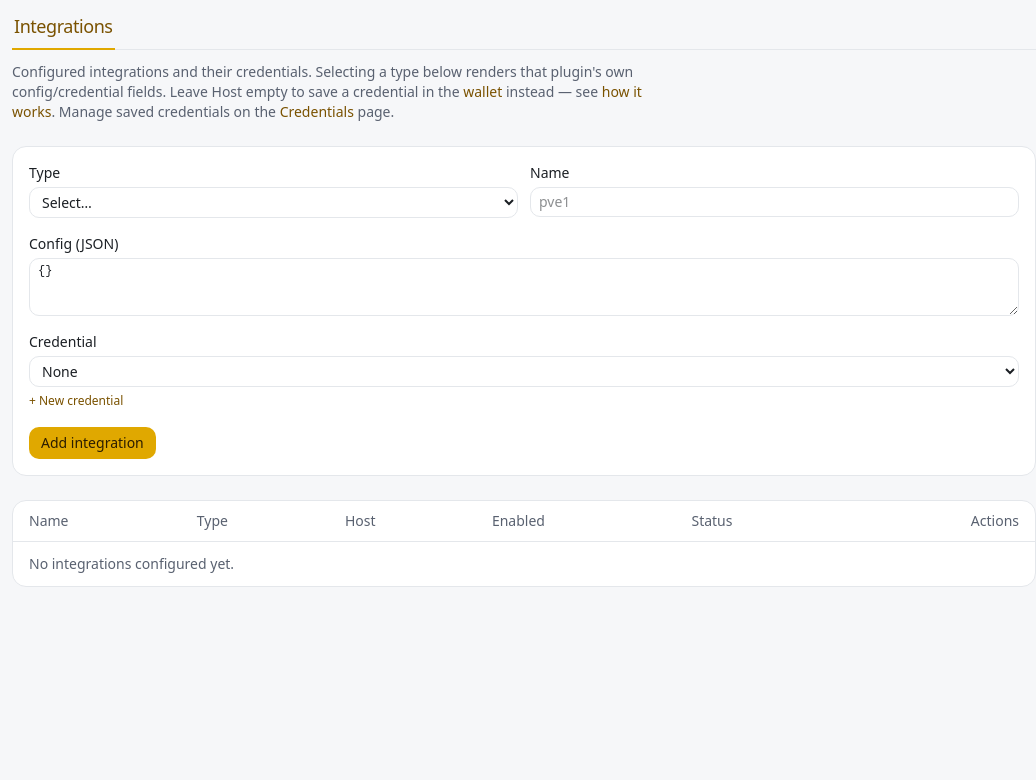
Test: IntegrationsPage › blocks submission when a required typed field is left empty
This screenshot has width=1036, height=780.
Expected: the text "No integrations configured yet." is shown, [13, 542, 1035, 586]
Select "Demo Plugin" in the dropdown "Select…" at (274, 202), box [29, 187, 518, 218]
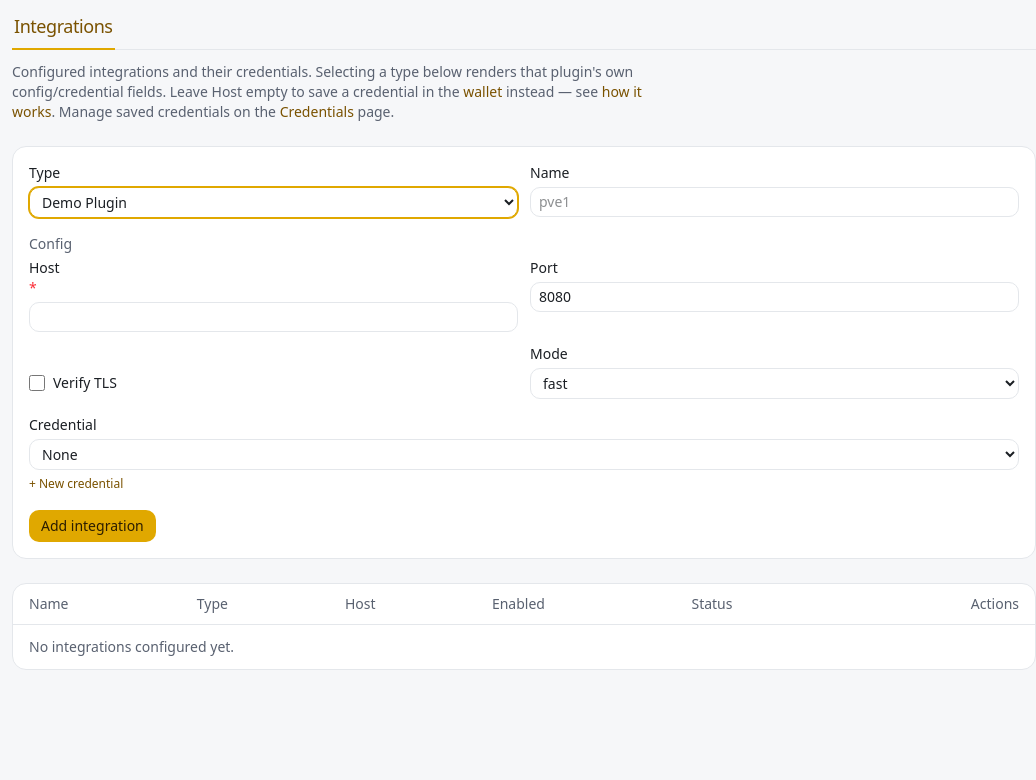
Type "demo-instance" into the field with placeholder "pve1".
click(774, 202); type("demo-instance")  # box [530, 187, 1019, 217]
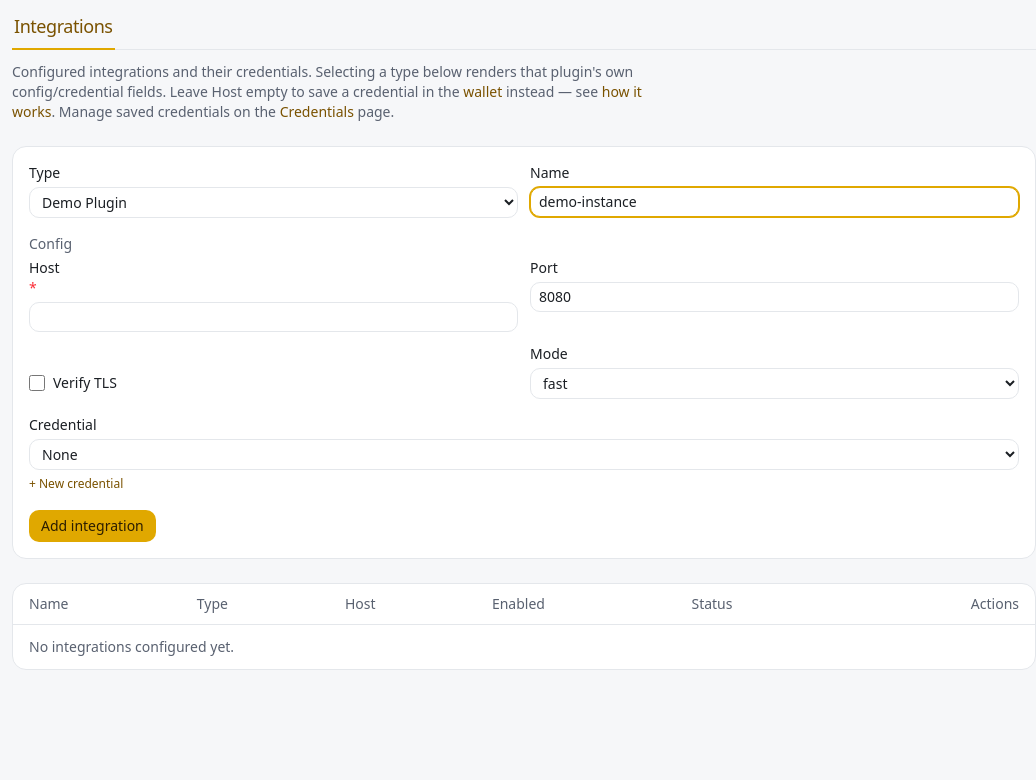
Click the button "Add integration".
click(92, 526)  # box [29, 510, 156, 542]
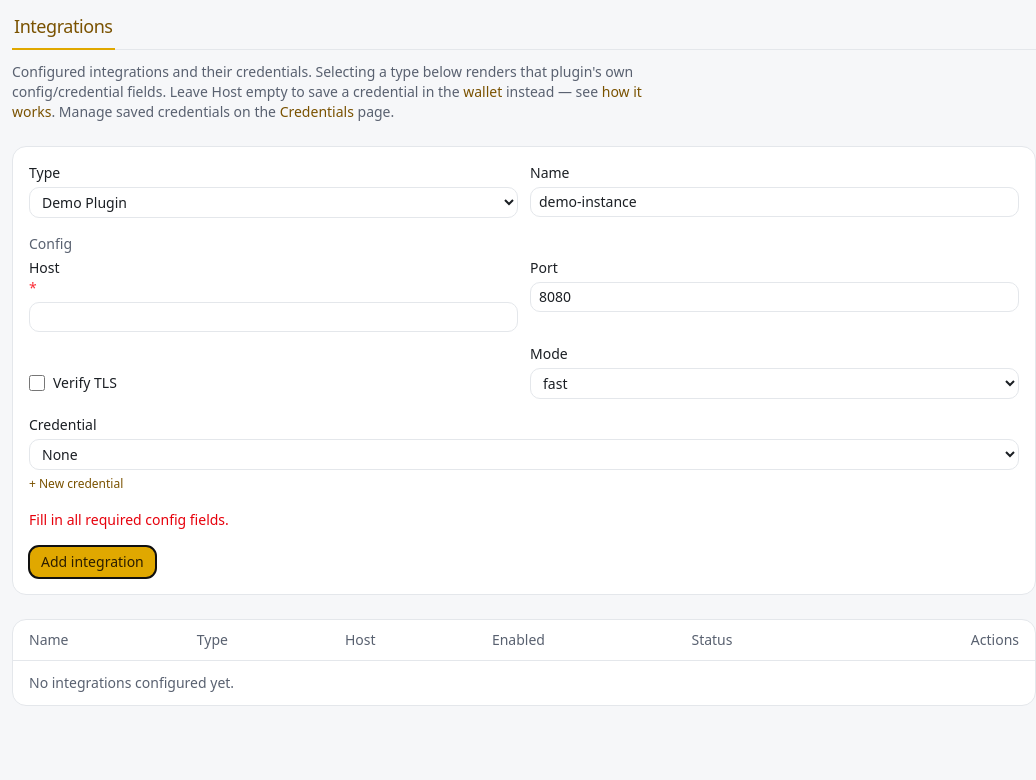
Now the text "Fill in all required config fields." is shown, box [29, 510, 229, 529]
